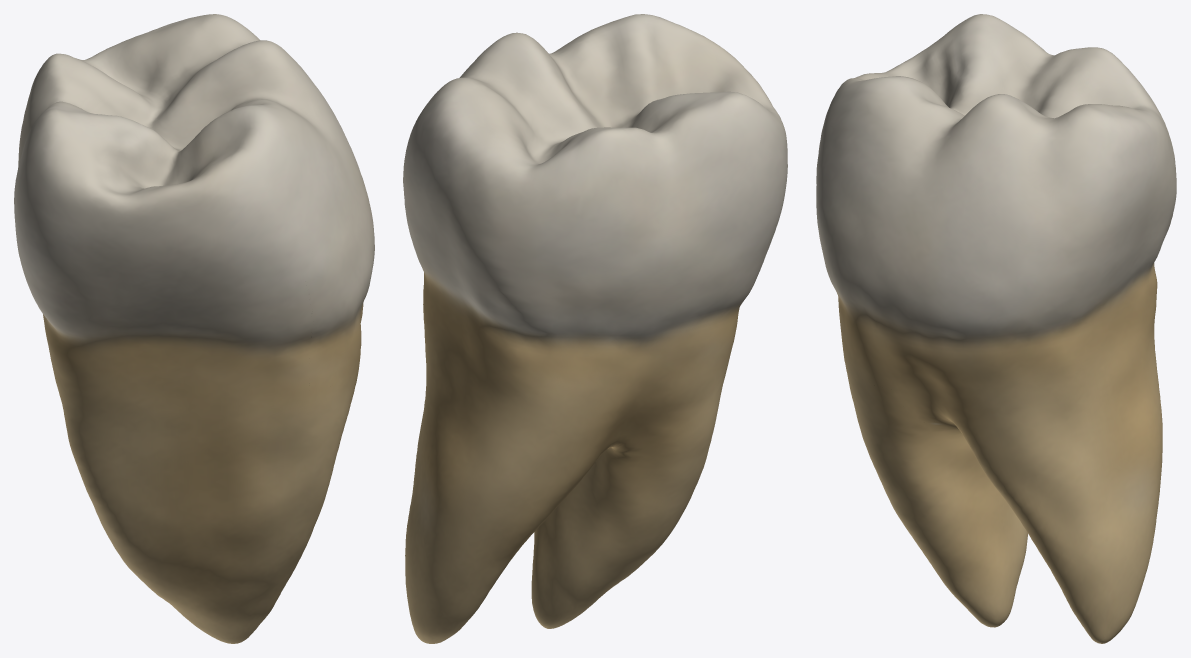
File: reference_molar.glb
3 views of the same model, side by side, from view 1: azimuth 30°, elevation 25°; view 2: azimuth 150°, elevation 25°; view 3: azimuth 270°, elevation 25° (orthographic). The views are drawn at different scales.
Visible parts, largest first — view 1: Object_2; view 2: Object_2; view 3: Object_2.
Boxes of the visible parts, x1=… form: Object_2: x1=14, y1=14, x2=374, y2=643; Object_2: x1=403, y1=14, x2=787, y2=643; Object_2: x1=816, y1=14, x2=1176, y2=643.
Size of the model in its own units: 1.1 by 1.84 by 1.11.
Materials: 1 (1 with a texture image).
